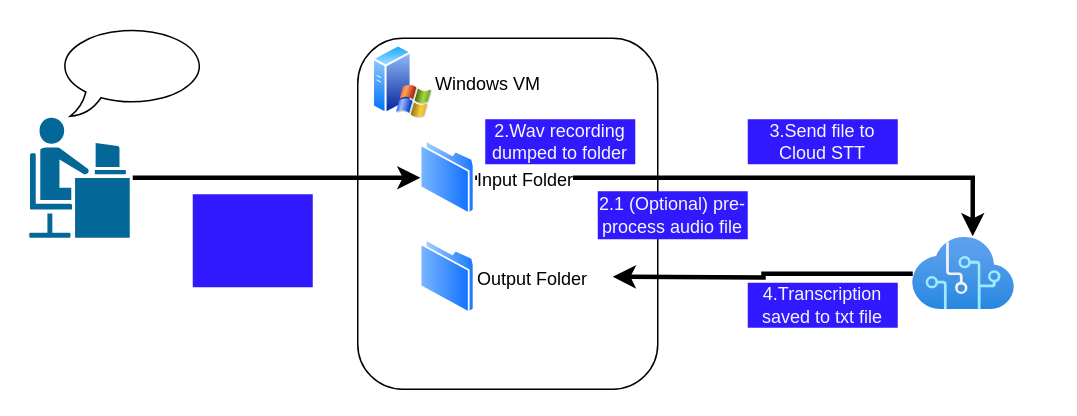
The diagram is 1077 pixels wide and 416 high, and some of its shapes have lost their labels. Here are the shapes that lost their labels. From the top down, the box of each, then its label:
(56, 25, 208, 116): Some speech
(192, 194, 312, 286): 1.Recording Audio from Hardware Device
(912, 237, 1014, 309): Azure Speech-To-Text Cognitive Service
